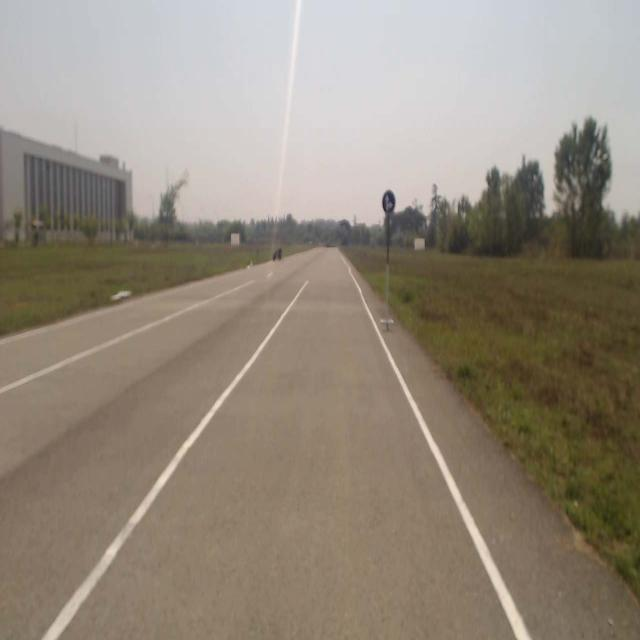ilerisag: (382, 190, 396, 214)
